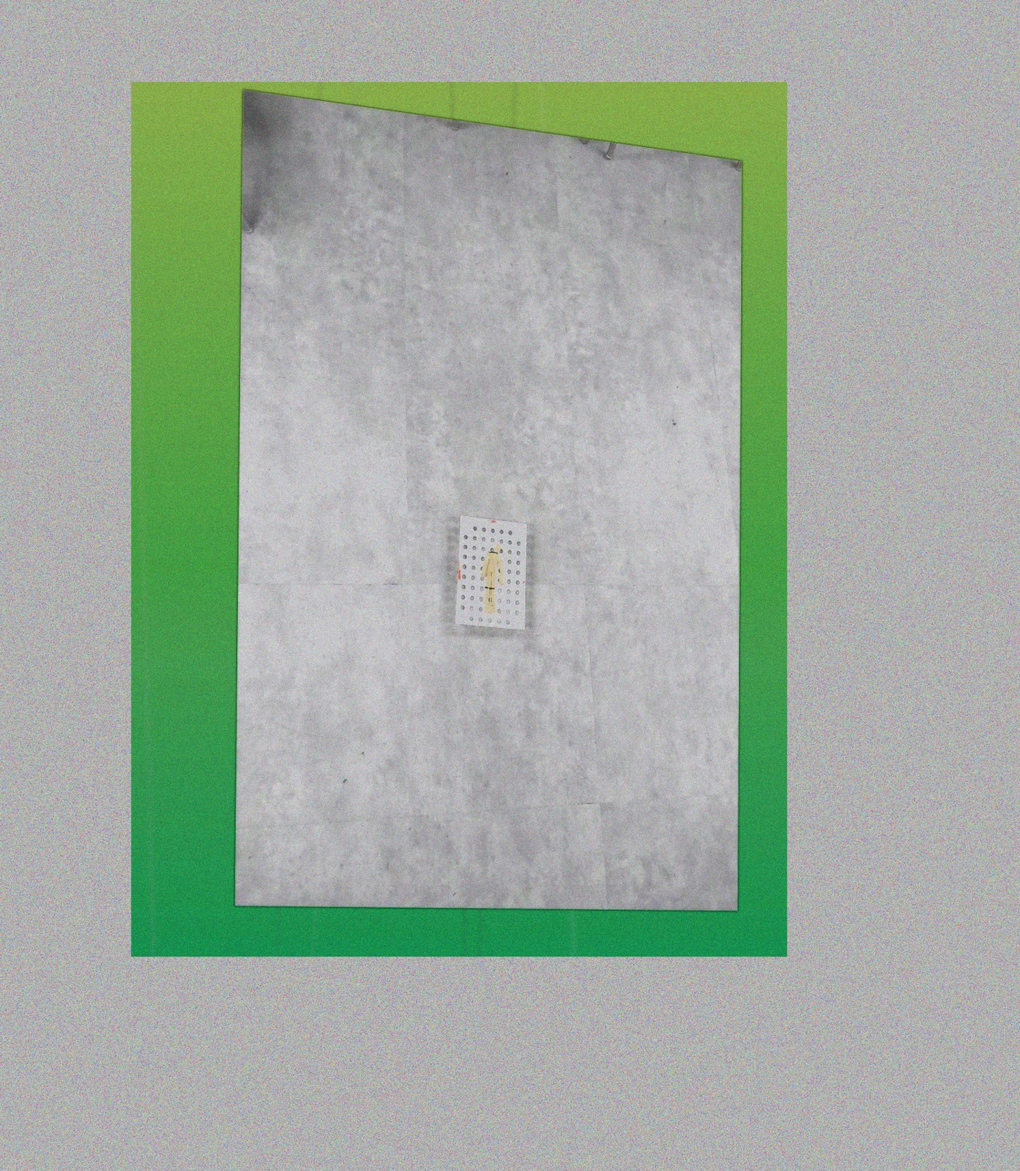basket: (451, 515, 536, 637)
mannequin: (479, 542, 503, 615)
